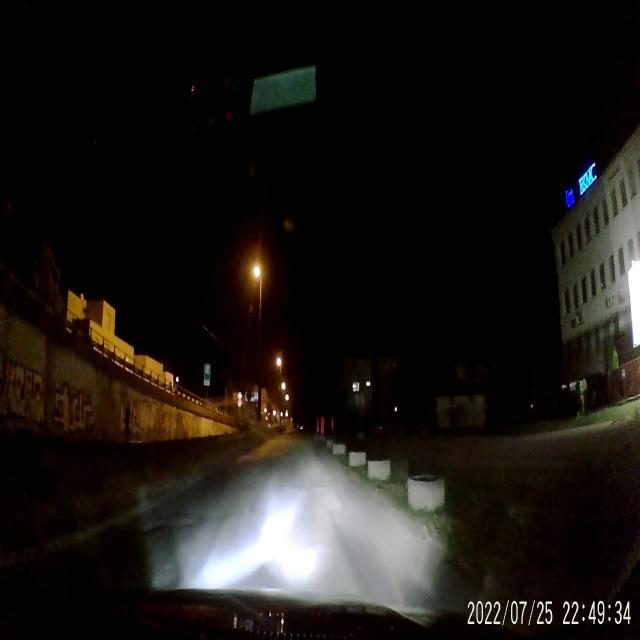Pothole: (137, 511, 192, 546)
